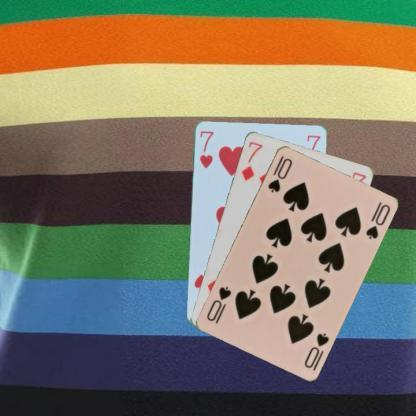10s: (265, 152, 294, 194), (301, 329, 330, 370)
7d: (239, 138, 264, 182)
7h: (197, 128, 215, 170)
